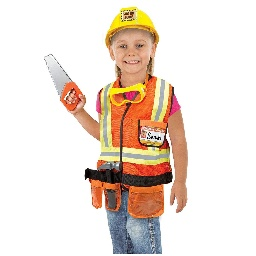helmet: (102, 8, 161, 54)
person: (89, 5, 184, 256)
vest: (96, 77, 172, 220)
